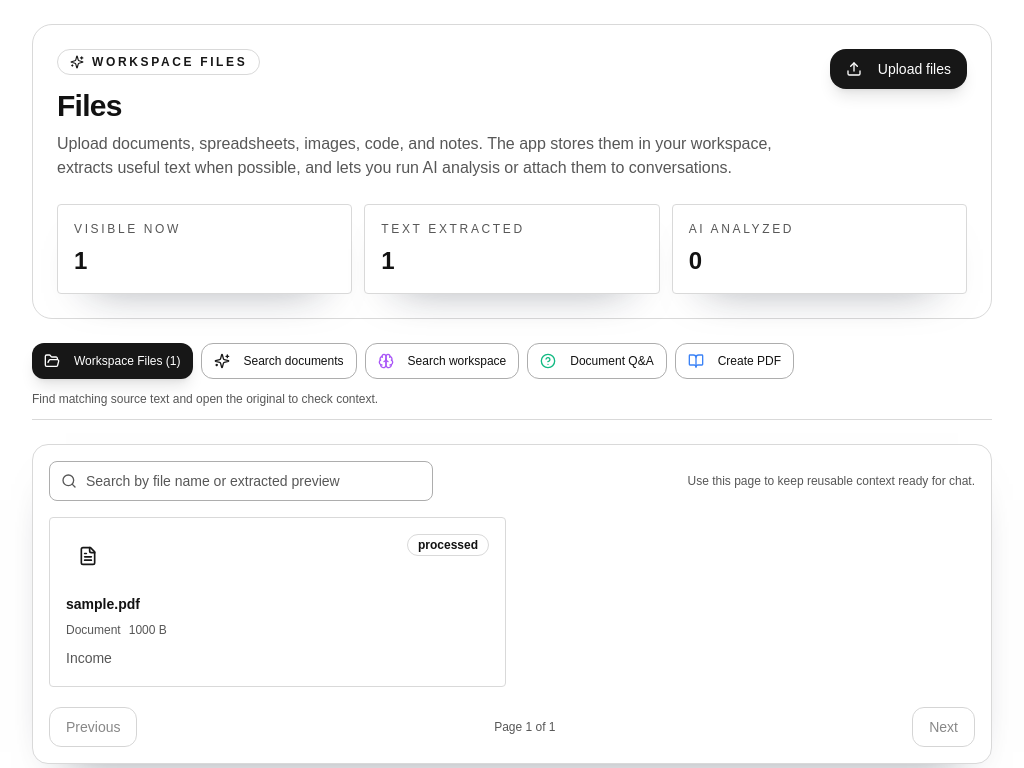
Test: recovers a failed detail request and exposes the stored PDF pages
Click the button "processed sample.pdf Document 1000 B Income": click(448, 545) [49,517,506,687]
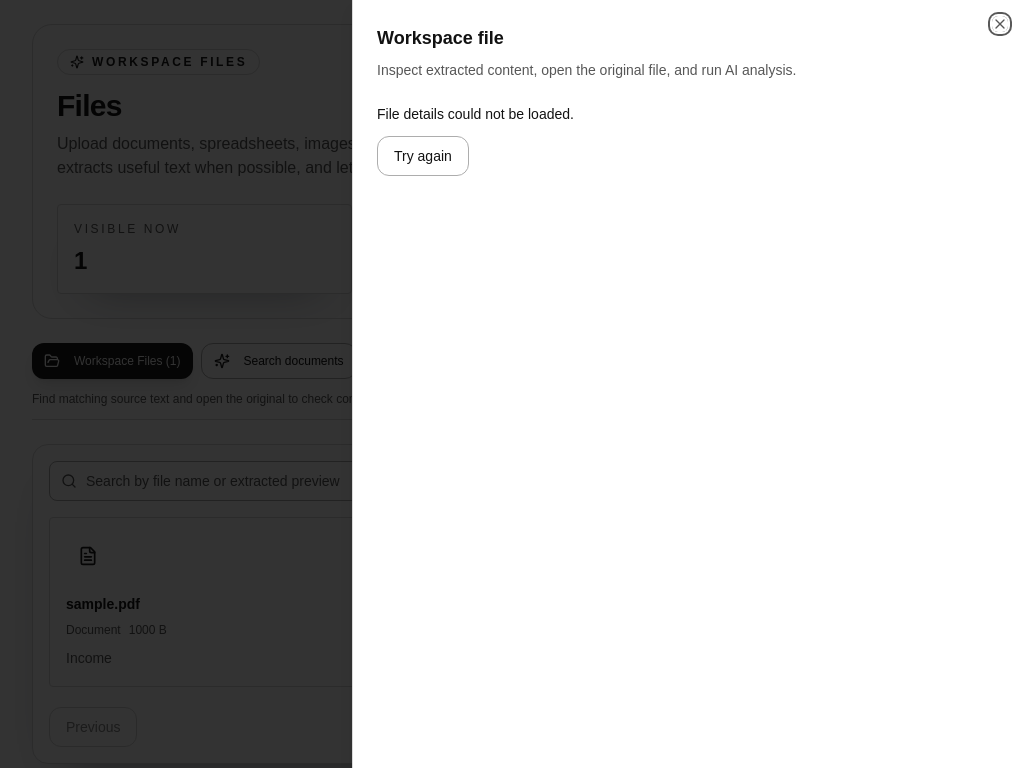
Expected: the message shows "File details could not be loaded", [377,106,574,122]
Click the button "Try again": click(423, 156) [377,136,469,176]
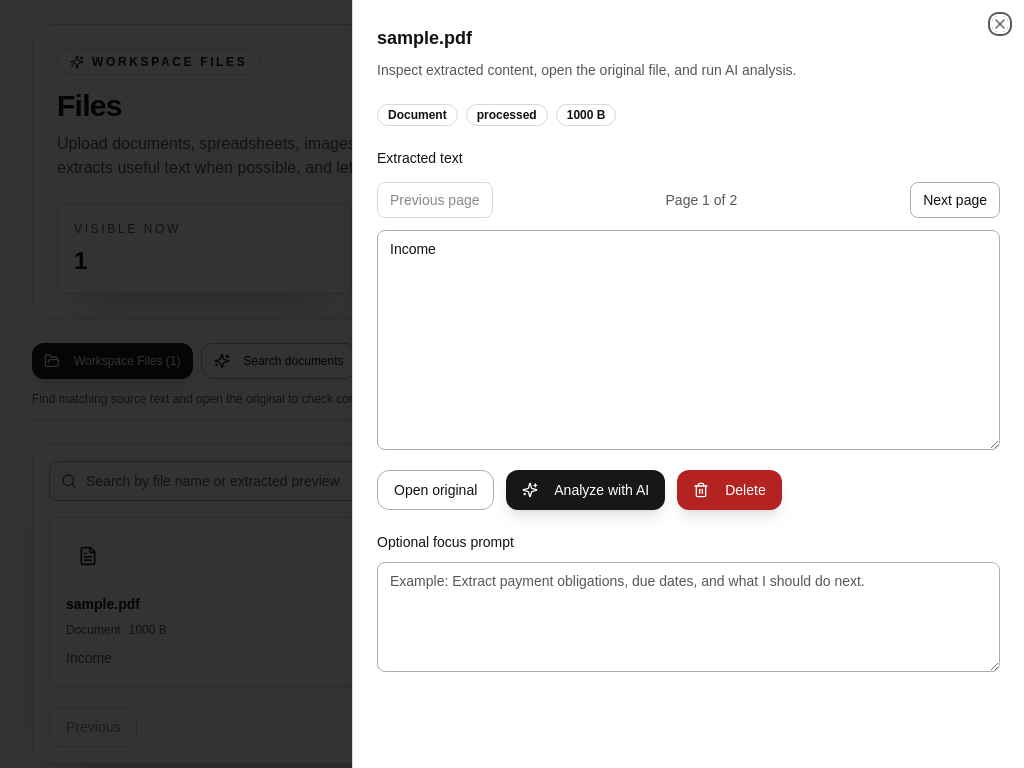
Expected: the text box named "Extracted text, page 1" holds "Income", [377,230,1000,450]
Click the button with aria-label "Next extracted page": click(955, 200) [910,182,1000,218]
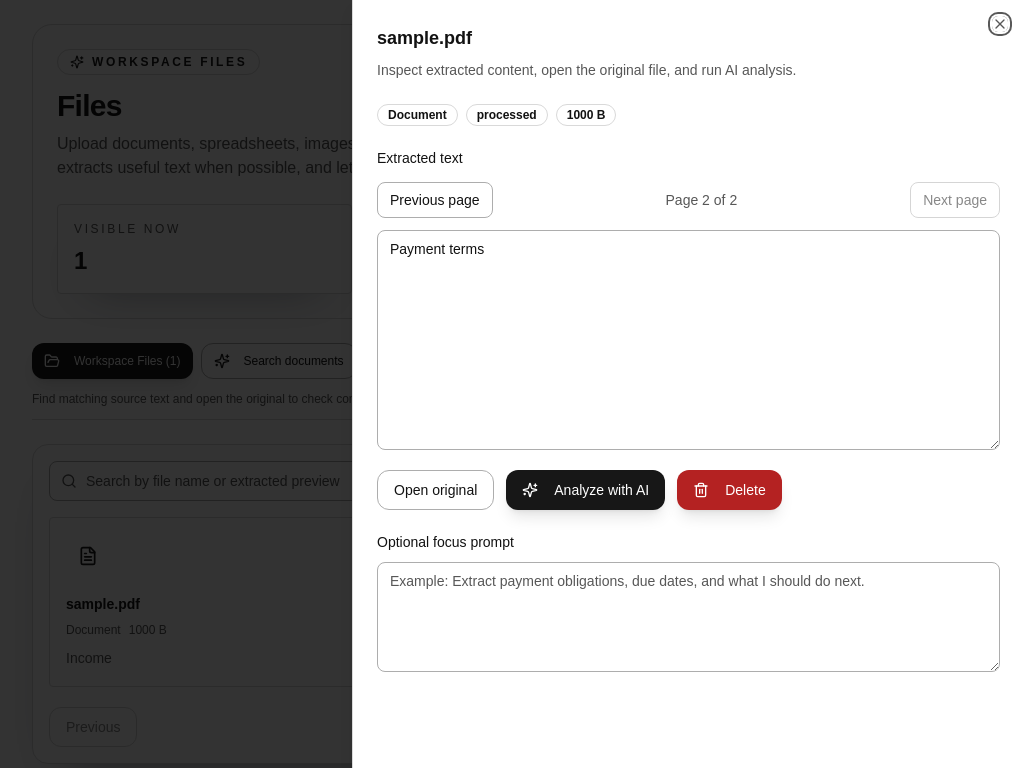
Expected: the text box named "Extracted text, page 2" holds "Payment terms", [377,230,1000,450]
